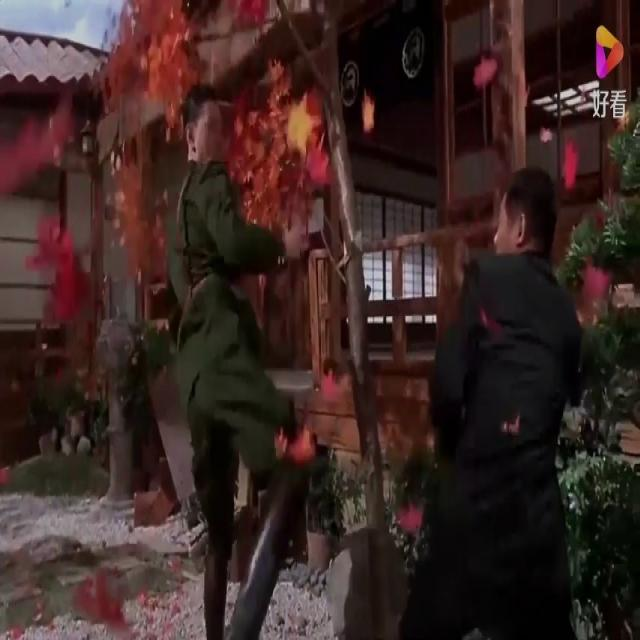fight: (393, 164, 593, 640), (156, 74, 317, 640)
